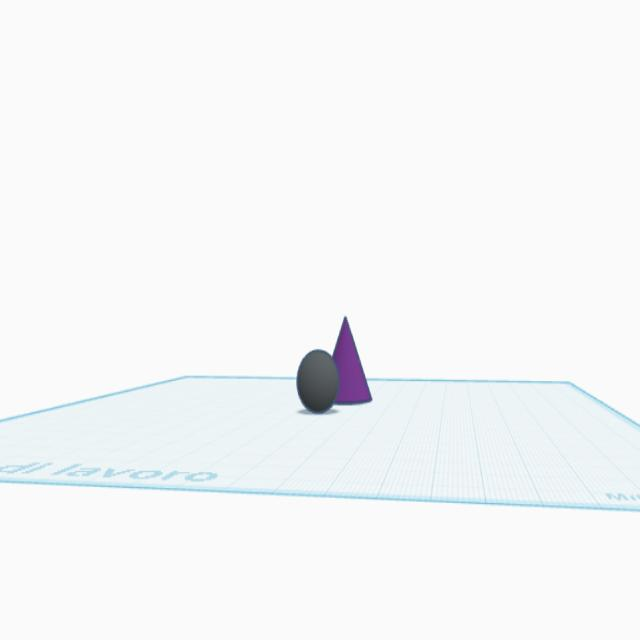sphere: (294, 345, 341, 420)
